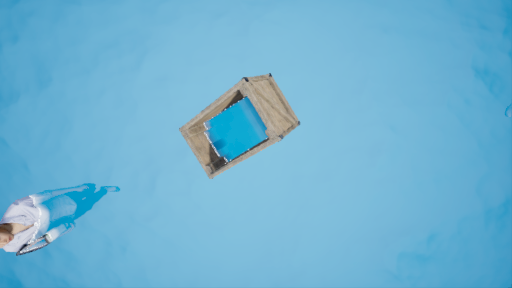person: (1, 182, 118, 261)
